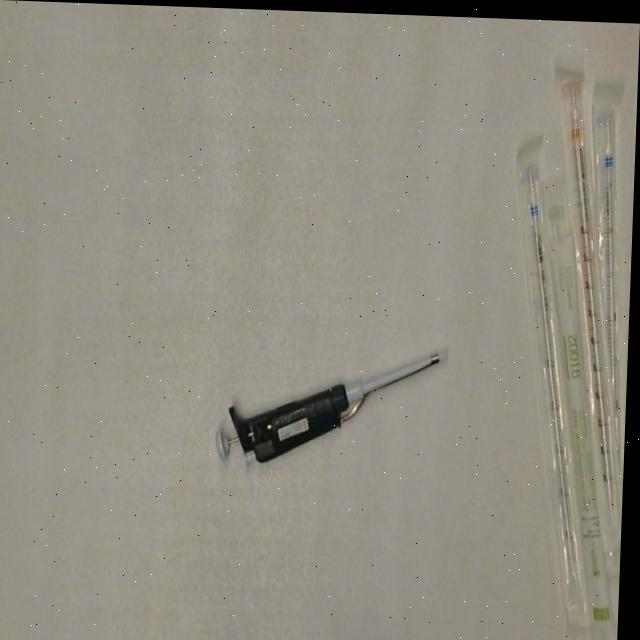Serelogical Pipet 10 mL - Sealed: (542, 66, 638, 537)
Serelogical Pipet 2 mL - Sealed: (531, 170, 635, 640)
Serelogical Pipet 5 mL - Sealed: (502, 135, 609, 627), (580, 79, 636, 450)
Single Channel Pipettor: (211, 329, 455, 489)
